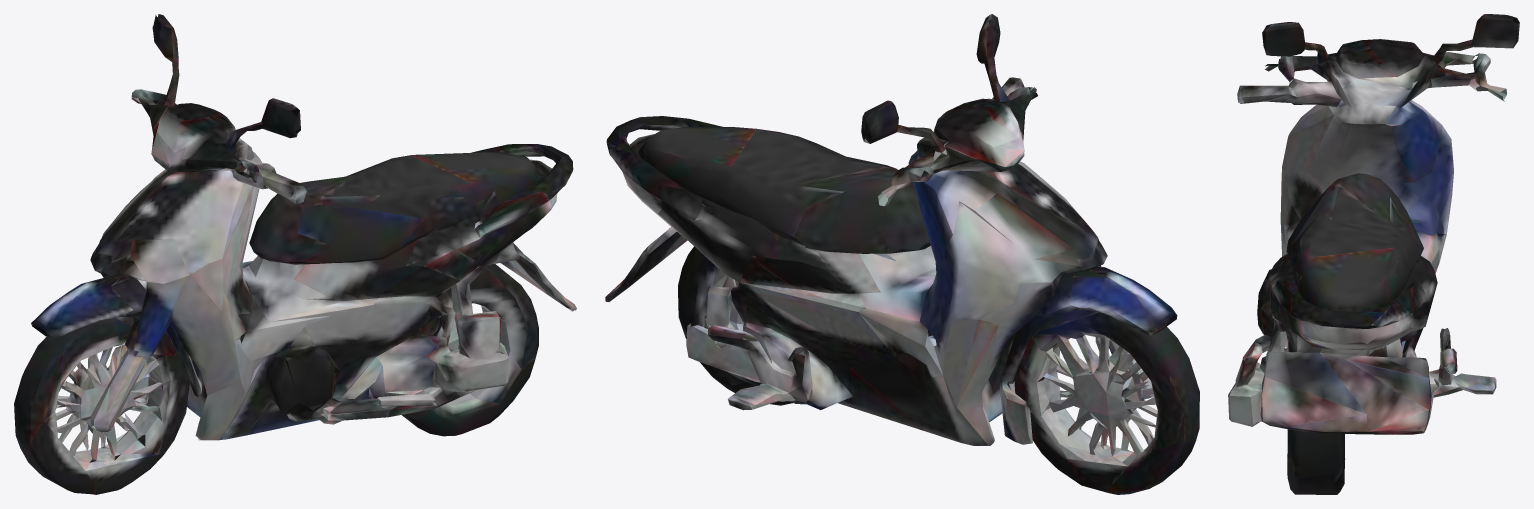
The model's file is motorbike.glb.
The picture shows the model from 3 angles, left to right: view 1: azimuth 30°, elevation 25°; view 2: azimuth 150°, elevation 25°; view 3: azimuth 270°, elevation 25°; orthographic projection. The views are drawn at different scales.
Visible parts, largest first — view 1: Mesh_0.4708; view 2: Mesh_0.4708; view 3: Mesh_0.4708.
Boxes of the visible parts, x1,y1,x2,y2 form: Mesh_0.4708: (14, 14, 576, 494); Mesh_0.4708: (605, 14, 1199, 494); Mesh_0.4708: (1228, 14, 1519, 494).
Size of the model in its own units: 1.62 by 1.1 by 0.7678.
1 material, 1 textured.
